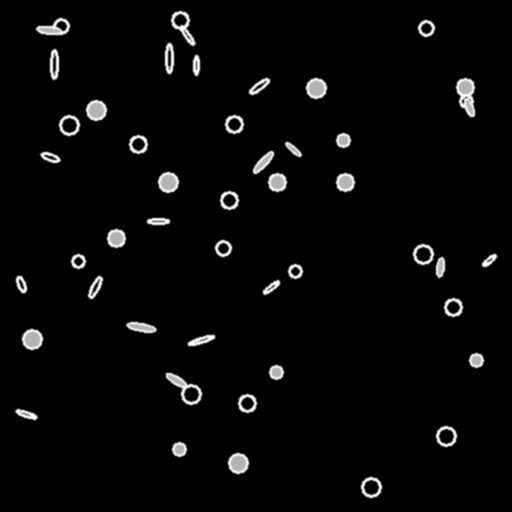pseudomonas: (252, 150, 274, 174), (248, 77, 270, 95), (178, 24, 196, 46), (87, 275, 103, 299), (165, 372, 187, 388), (127, 321, 155, 333), (188, 334, 214, 346), (262, 279, 280, 295), (285, 141, 301, 157), (40, 151, 60, 163), (37, 25, 61, 35), (481, 253, 497, 267), (463, 98, 475, 116), (15, 275, 27, 293), (16, 409, 36, 419), (166, 44, 172, 72), (51, 50, 57, 78), (436, 257, 444, 277), (193, 56, 199, 74), (148, 219, 169, 224)
synechocystis: (23, 330, 41, 348), (87, 101, 105, 119), (414, 245, 432, 263), (437, 427, 455, 445), (60, 116, 78, 134), (229, 454, 247, 472), (159, 173, 177, 191), (182, 385, 200, 403), (307, 79, 325, 97), (362, 478, 380, 496), (457, 79, 473, 95), (239, 395, 255, 411), (445, 299, 461, 315), (337, 174, 353, 190), (221, 192, 237, 208), (172, 12, 188, 28), (130, 136, 146, 152), (108, 230, 124, 246), (269, 174, 285, 190), (226, 116, 242, 132), (216, 241, 230, 255), (419, 21, 433, 35), (54, 19, 68, 33), (72, 255, 84, 267), (470, 354, 482, 366), (337, 134, 349, 146), (270, 366, 282, 378), (173, 443, 185, 455), (289, 265, 301, 277), (460, 95, 472, 107)
